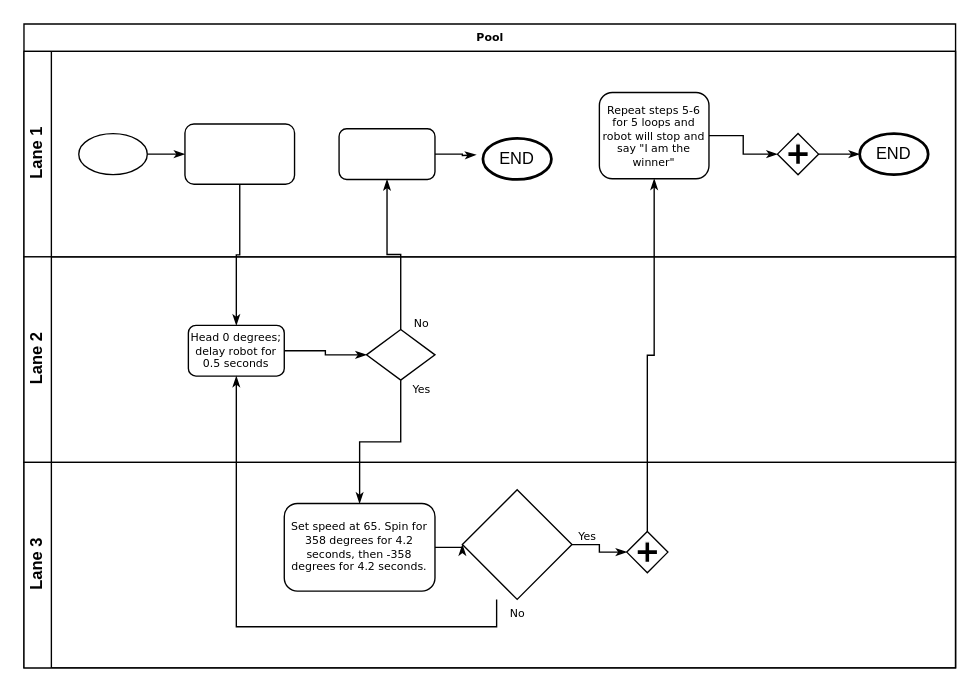
Some shapes in this 980 by 692 pixel diagram are drawn without their labels. The centre of each missing label's shape, as x and y in pixels:
Check coding again, fix errors, and restart: point 386,153
Did it spin for the set degrees and time?: point 516,543
Put robot on the "X" starting position: point 239,153
START: point 112,153
Success?: point 400,354
